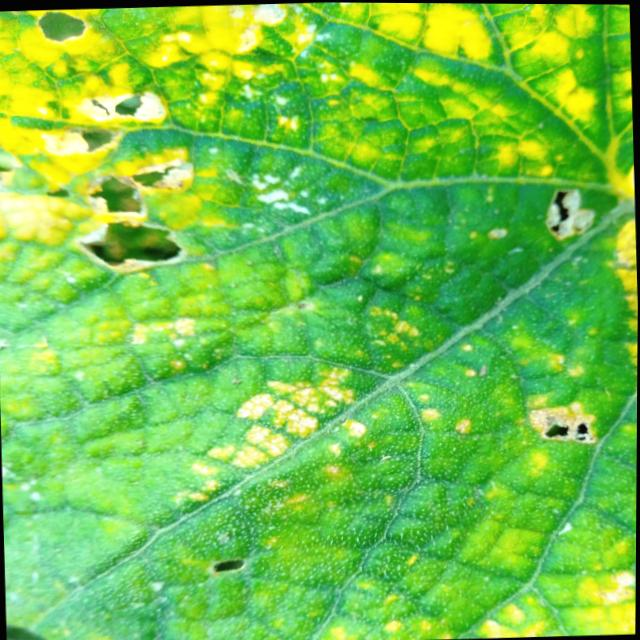Anthracnose: (77, 158, 192, 270), (75, 86, 167, 157), (524, 389, 604, 446), (541, 174, 592, 244), (33, 9, 92, 50), (203, 540, 248, 581)
